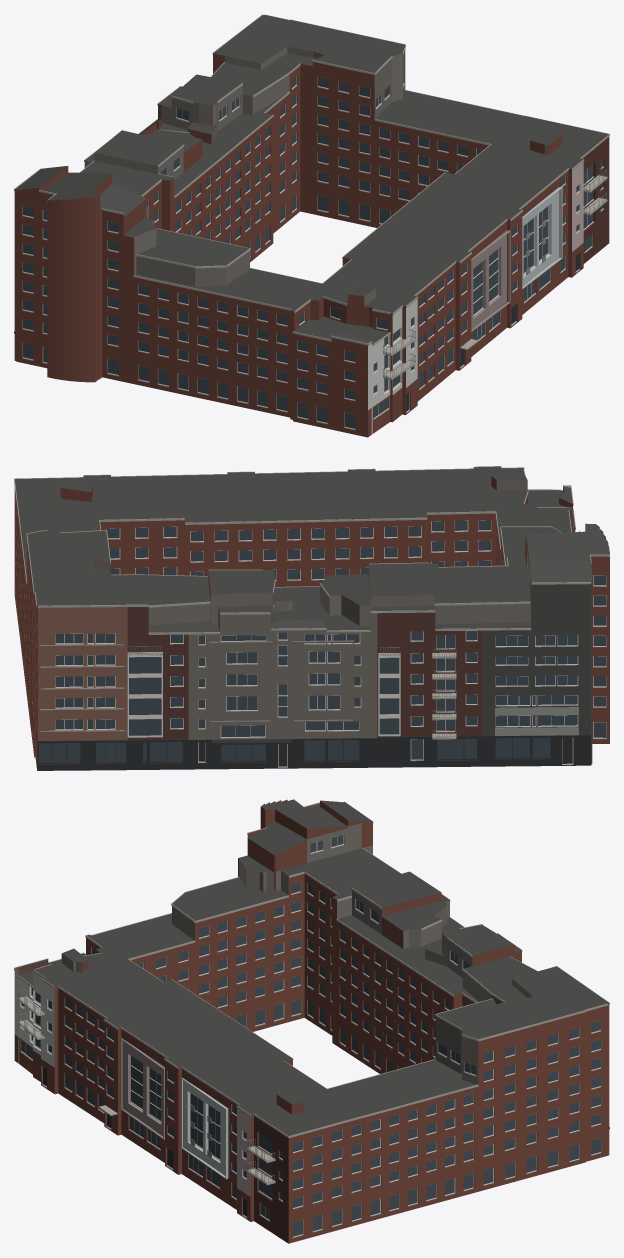
Rendered from rapenburgerstraat-4.glb.
3 renders of one model, top to bottom at view 1: azimuth 30°, elevation 25°; view 2: azimuth 150°, elevation 25°; view 3: azimuth 270°, elevation 25°, orthographic. The views are drawn at different scales.
Visible parts, largest first — view 1: rapenburgerstraat-4; view 2: rapenburgerstraat-4; view 3: rapenburgerstraat-4.
Boxes of the visible parts, x1,y1,x2,y2 form: rapenburgerstraat-4: [14, 14, 609, 437]; rapenburgerstraat-4: [14, 466, 609, 770]; rapenburgerstraat-4: [14, 799, 609, 1243].
Size of the model in its own units: 81.76 by 25.54 by 75.39.
